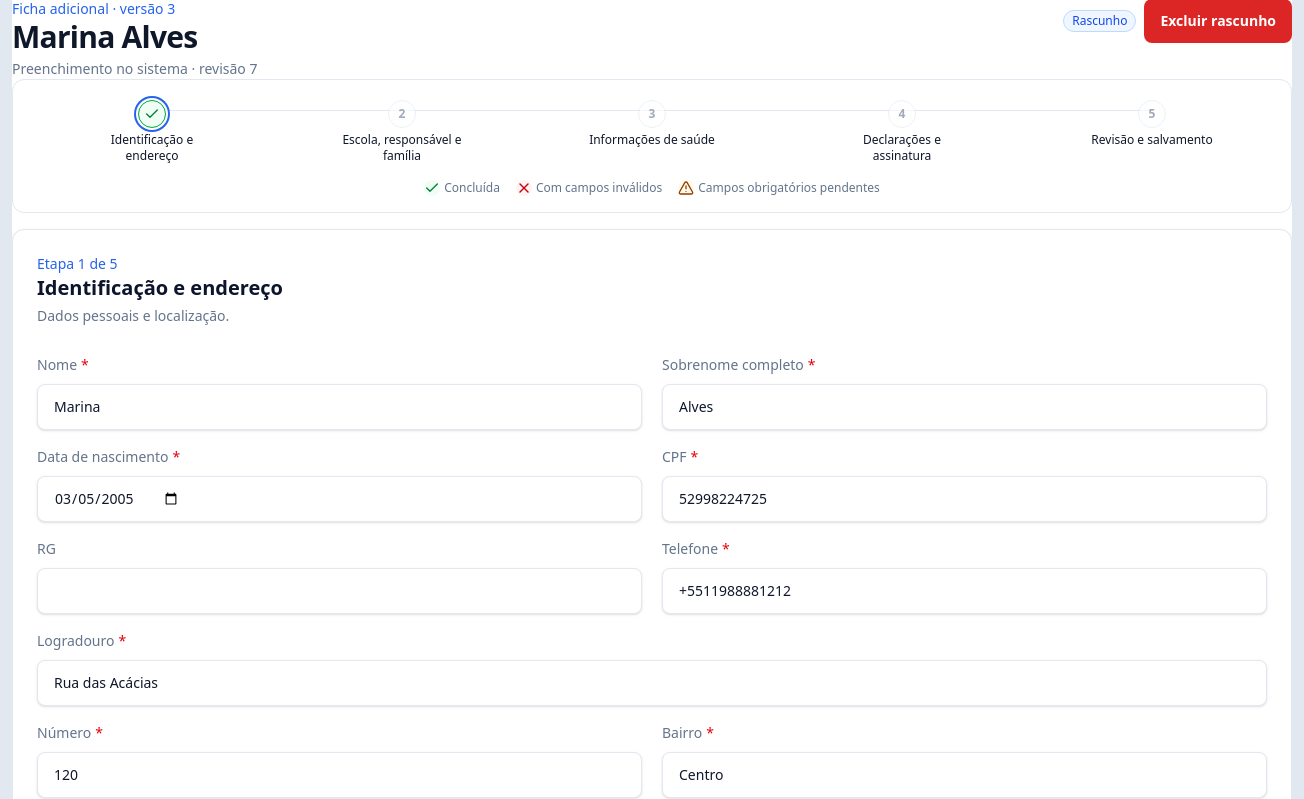
OratorianoFormEditor › mostra vermelho para CPF inválido sem bloquear o avanço
Replace the text in the field labelled "CPF" with "12345678910": (964, 499) [662,476,1267,522]
(page scrolled)
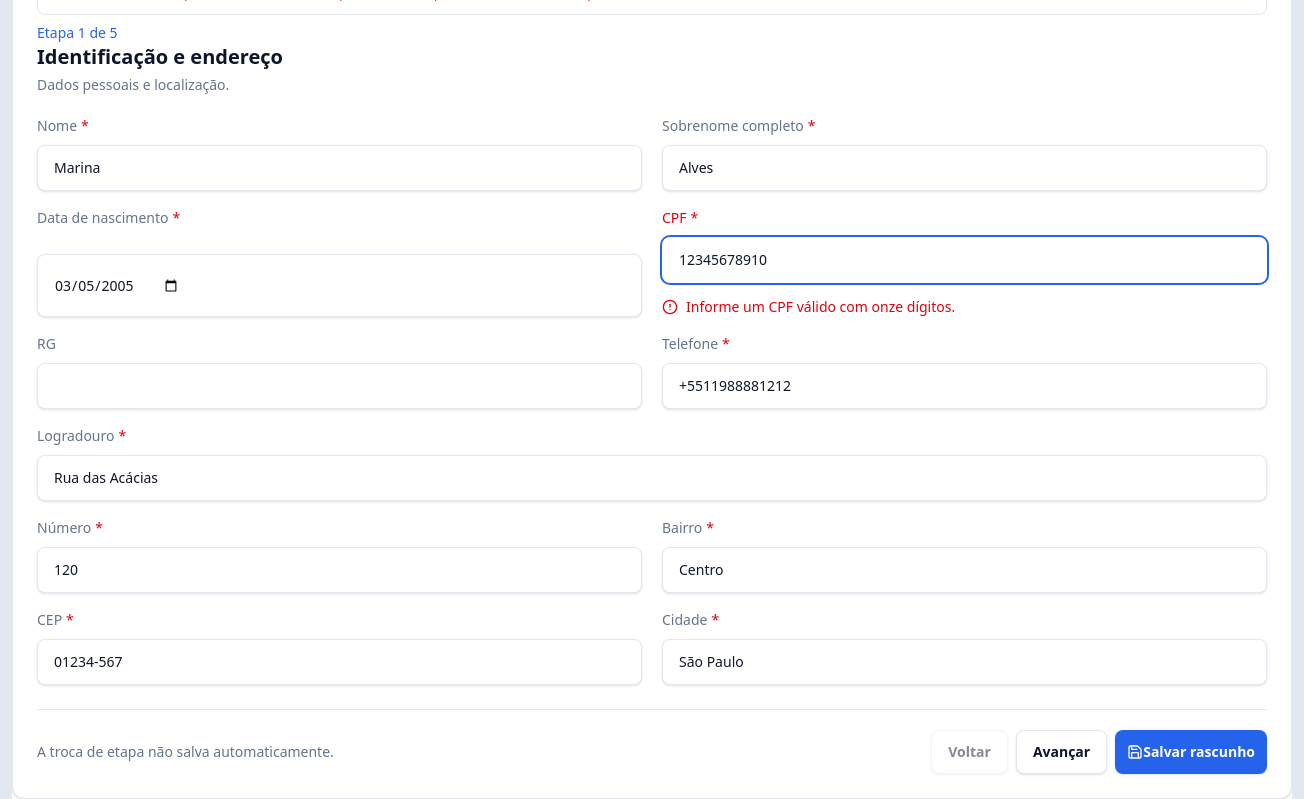
Click the button "Avançar": click(1062, 752) [1016,730,1107,774]
(page scrolled)
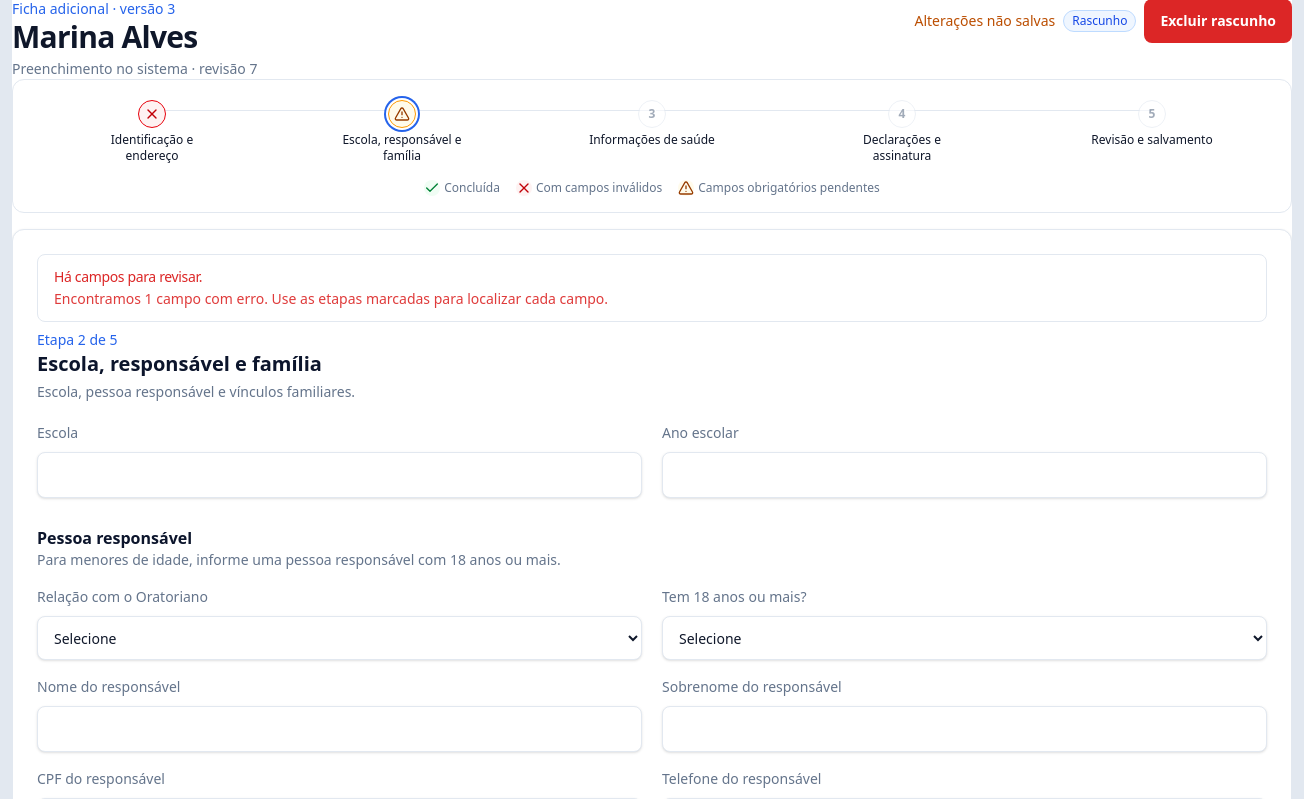
Check: the button with aria-label "Etapa 1: Identificação e endereço, com campos inválidos" is shown, box [29,96,275,168]
Check: the heading "Escola, responsável e família" is shown, box [37,350,322,377]
